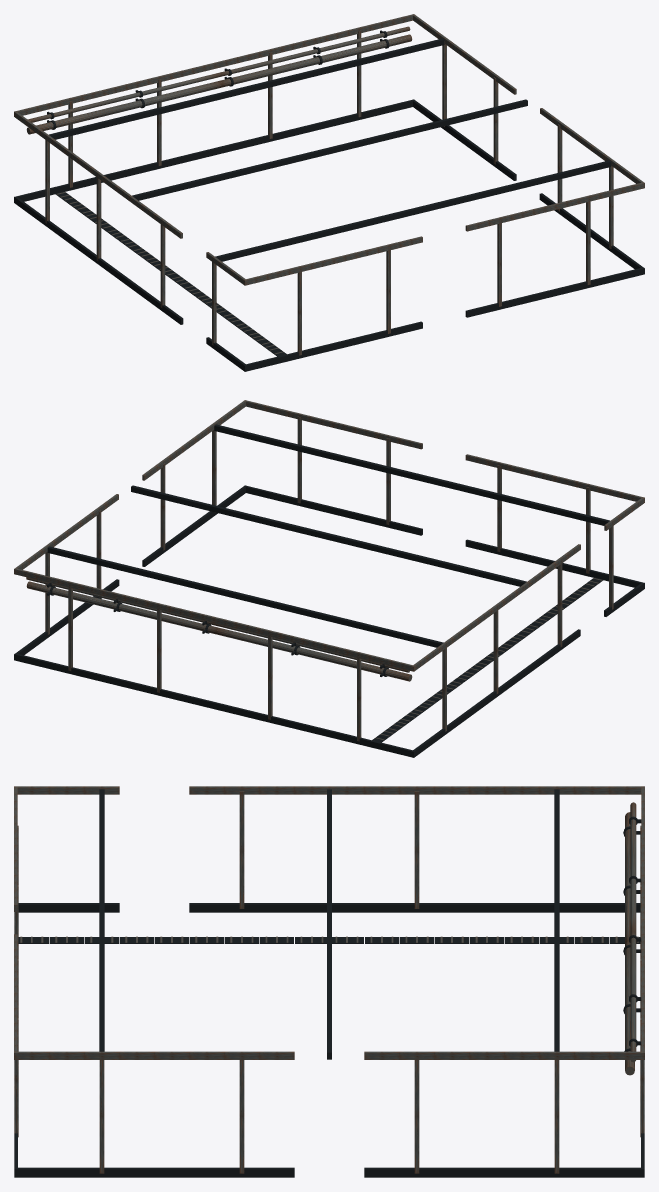
File: ServiceStructure05.obj
The picture shows the model from 3 angles, top to bottom: view 1: azimuth 30°, elevation 25°; view 2: azimuth 150°, elevation 25°; view 3: azimuth 270°, elevation 25°; orthographic projection. The views are drawn at different scales.
Visible parts, largest first — view 1: ServiceStructure05; view 2: ServiceStructure05; view 3: ServiceStructure05.
Boxes of the visible parts, x1,y1,x2,y2 form: ServiceStructure05: (14,14,644,371); ServiceStructure05: (14,400,644,757); ServiceStructure05: (14,786,644,1177).
Bounding box in the file's own units: 18.02 × 3.93 × 18.02.
Materials: 3 (2 with a texture image).
